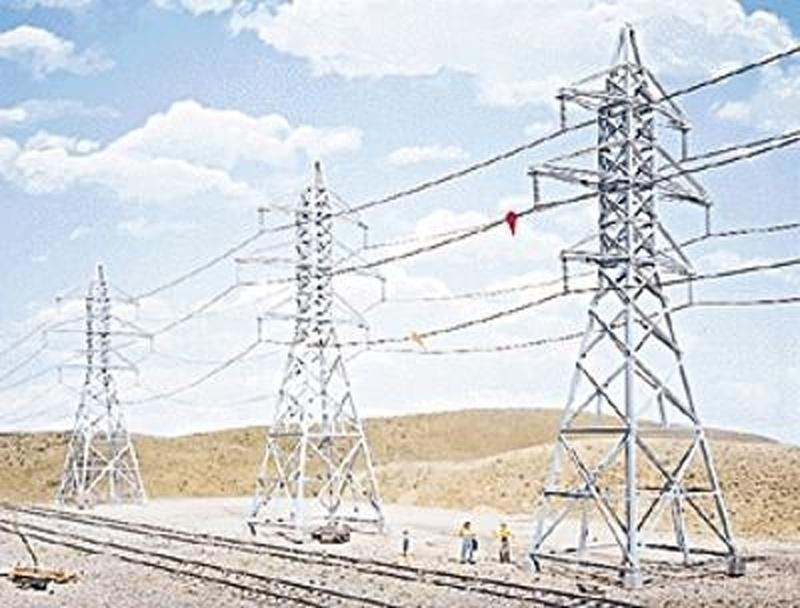power_tower: (525, 16, 748, 578), (244, 157, 389, 520), (42, 261, 151, 504)
